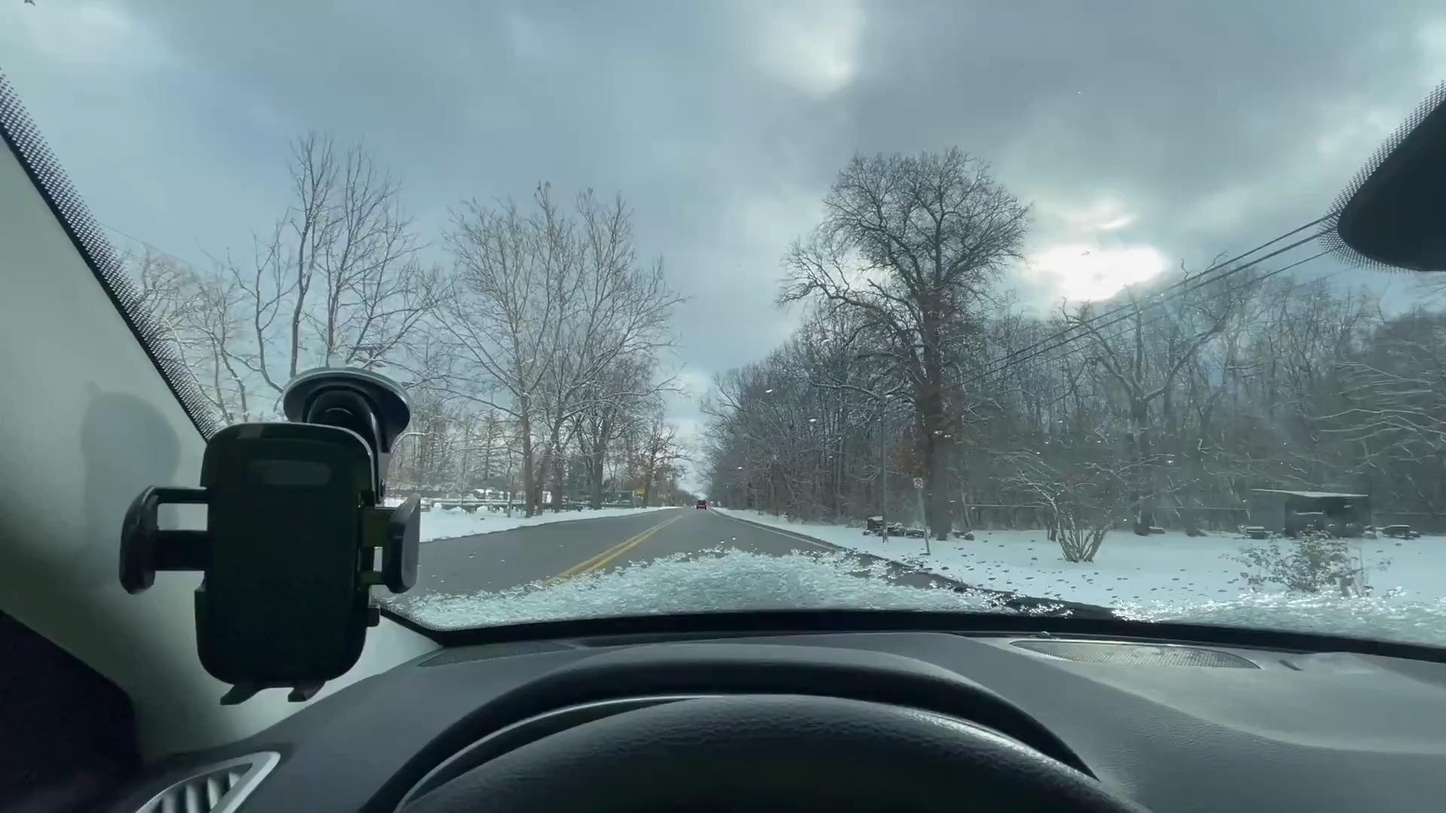Ice: (414, 504, 979, 601)
Snow: (712, 508, 1445, 615), (419, 501, 671, 542)
